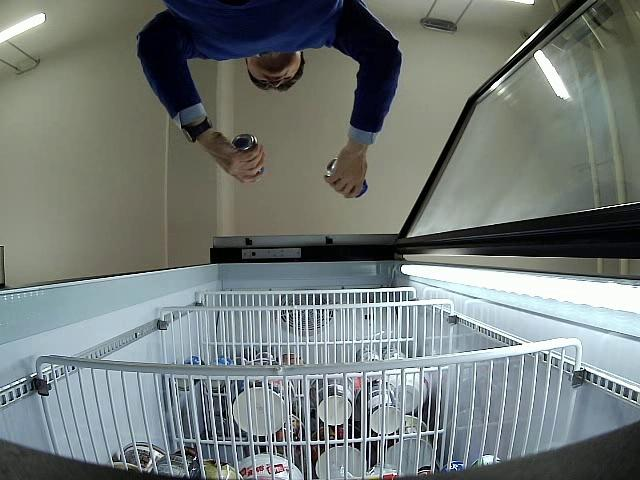00_hand: (203, 129, 265, 184), (326, 144, 368, 199)
13_pocariSweat: (327, 157, 367, 197)
